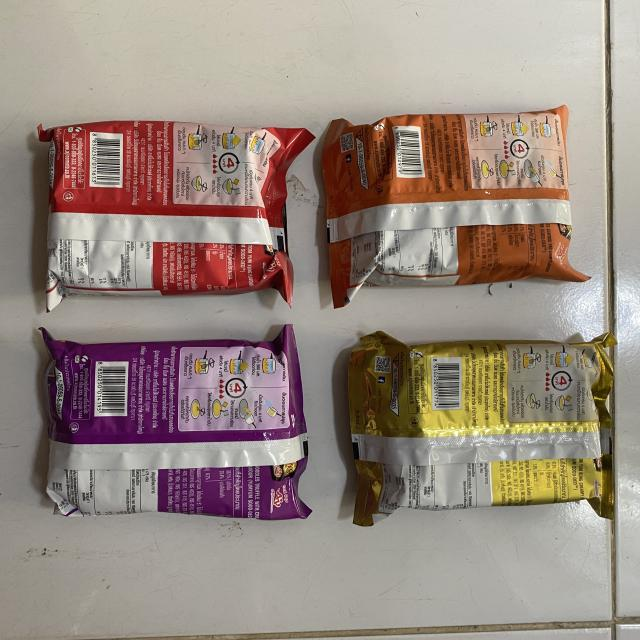plastik: (322, 106, 588, 308), (40, 325, 310, 519), (38, 121, 314, 310), (349, 331, 615, 526)
